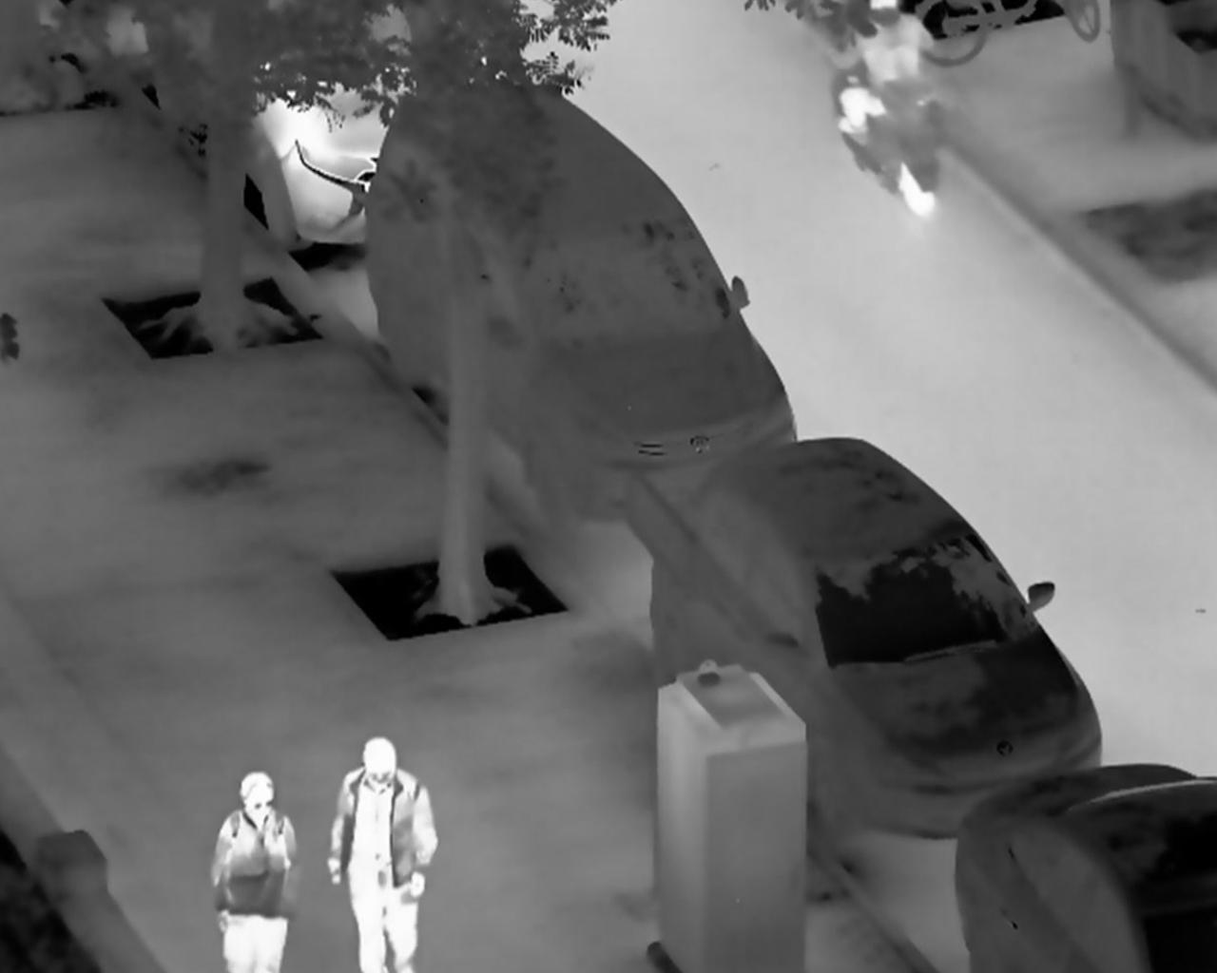person: (325, 732, 440, 973), (207, 769, 299, 973)
